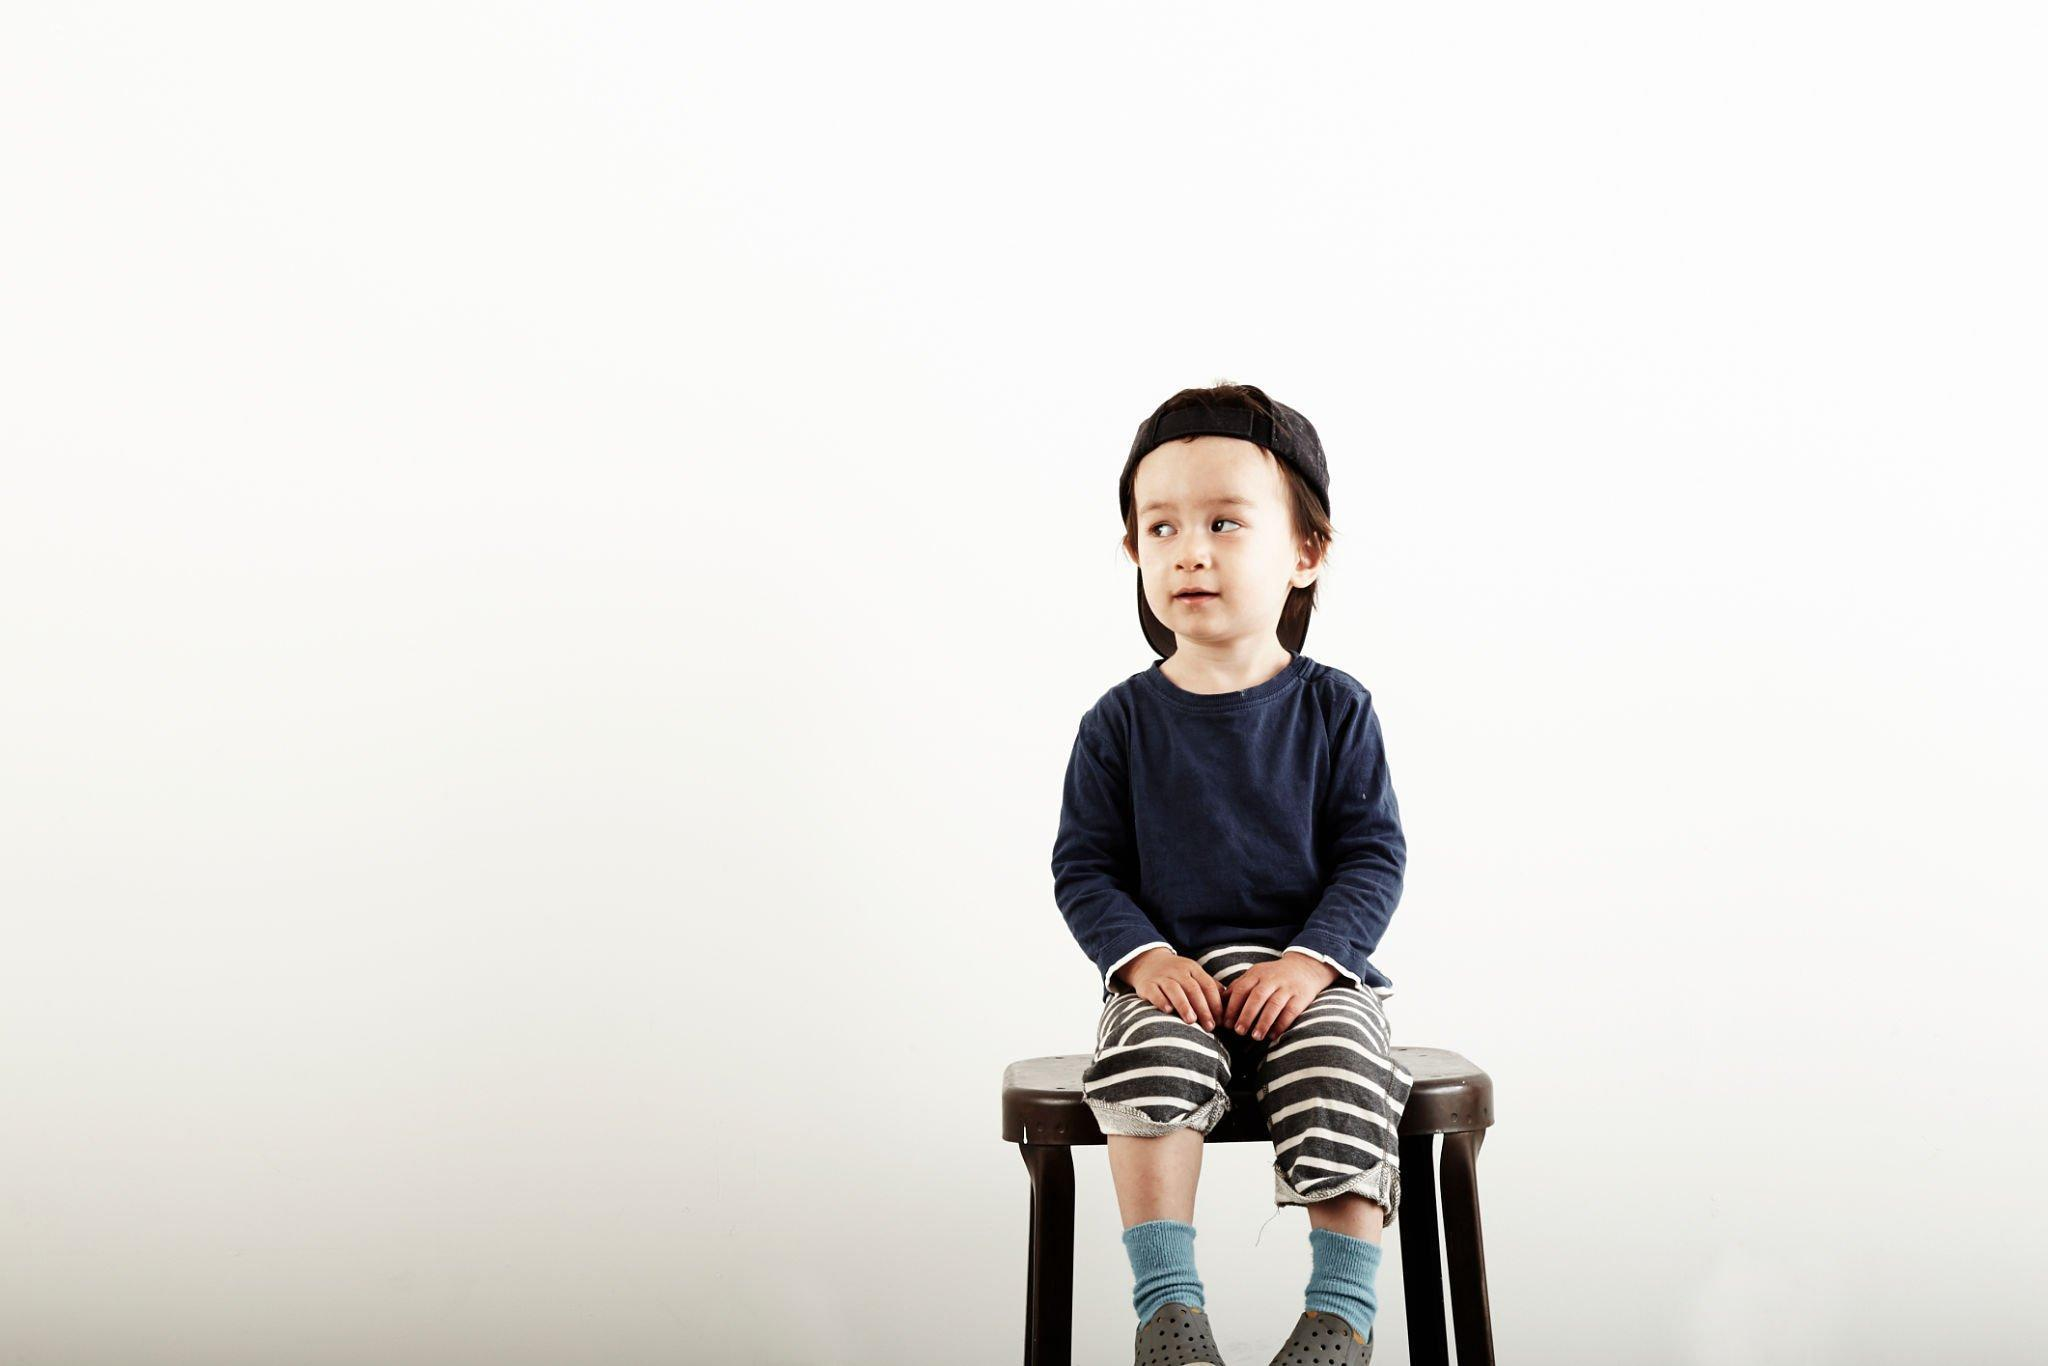Healthy: (1106, 422, 1323, 669)
